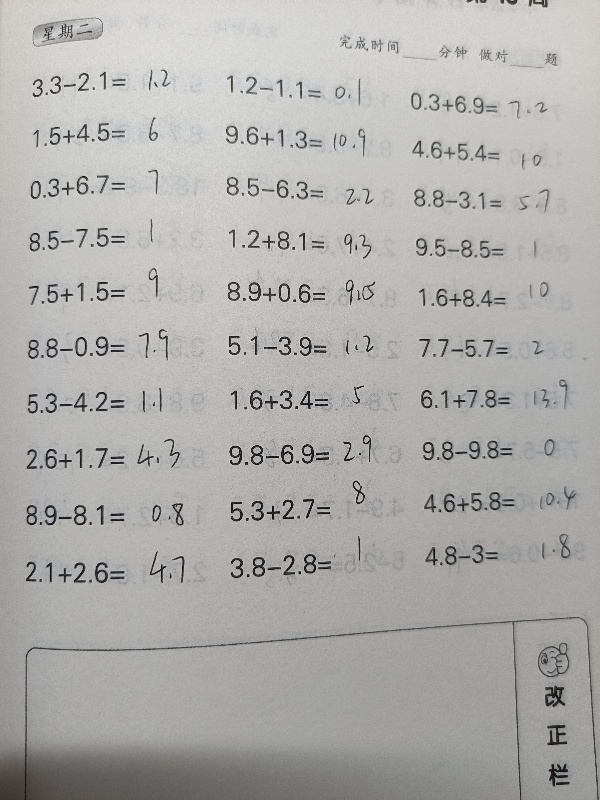equation: (221, 531, 399, 583), (17, 431, 197, 476), (219, 320, 399, 363), (216, 119, 396, 162), (17, 554, 197, 591), (18, 383, 198, 420), (18, 328, 198, 365), (17, 497, 197, 533), (221, 491, 401, 527), (219, 436, 399, 472), (222, 382, 402, 418), (20, 274, 200, 310), (20, 220, 200, 256), (217, 170, 397, 206), (415, 537, 595, 572), (414, 484, 594, 519), (414, 433, 594, 468), (218, 274, 398, 309), (220, 222, 400, 257), (21, 168, 201, 203), (25, 116, 205, 151), (23, 65, 203, 100), (412, 382, 592, 416), (411, 331, 591, 365), (411, 281, 591, 315), (406, 231, 586, 265), (404, 182, 584, 216), (218, 70, 398, 104), (403, 135, 583, 168), (401, 87, 581, 120)
